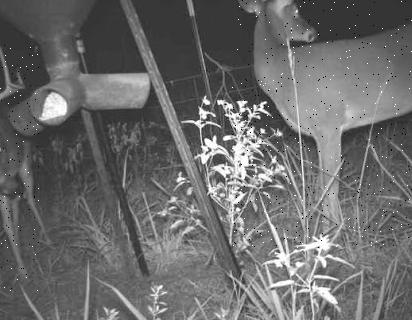Deer: (232, 0, 412, 248), (0, 42, 39, 296)
